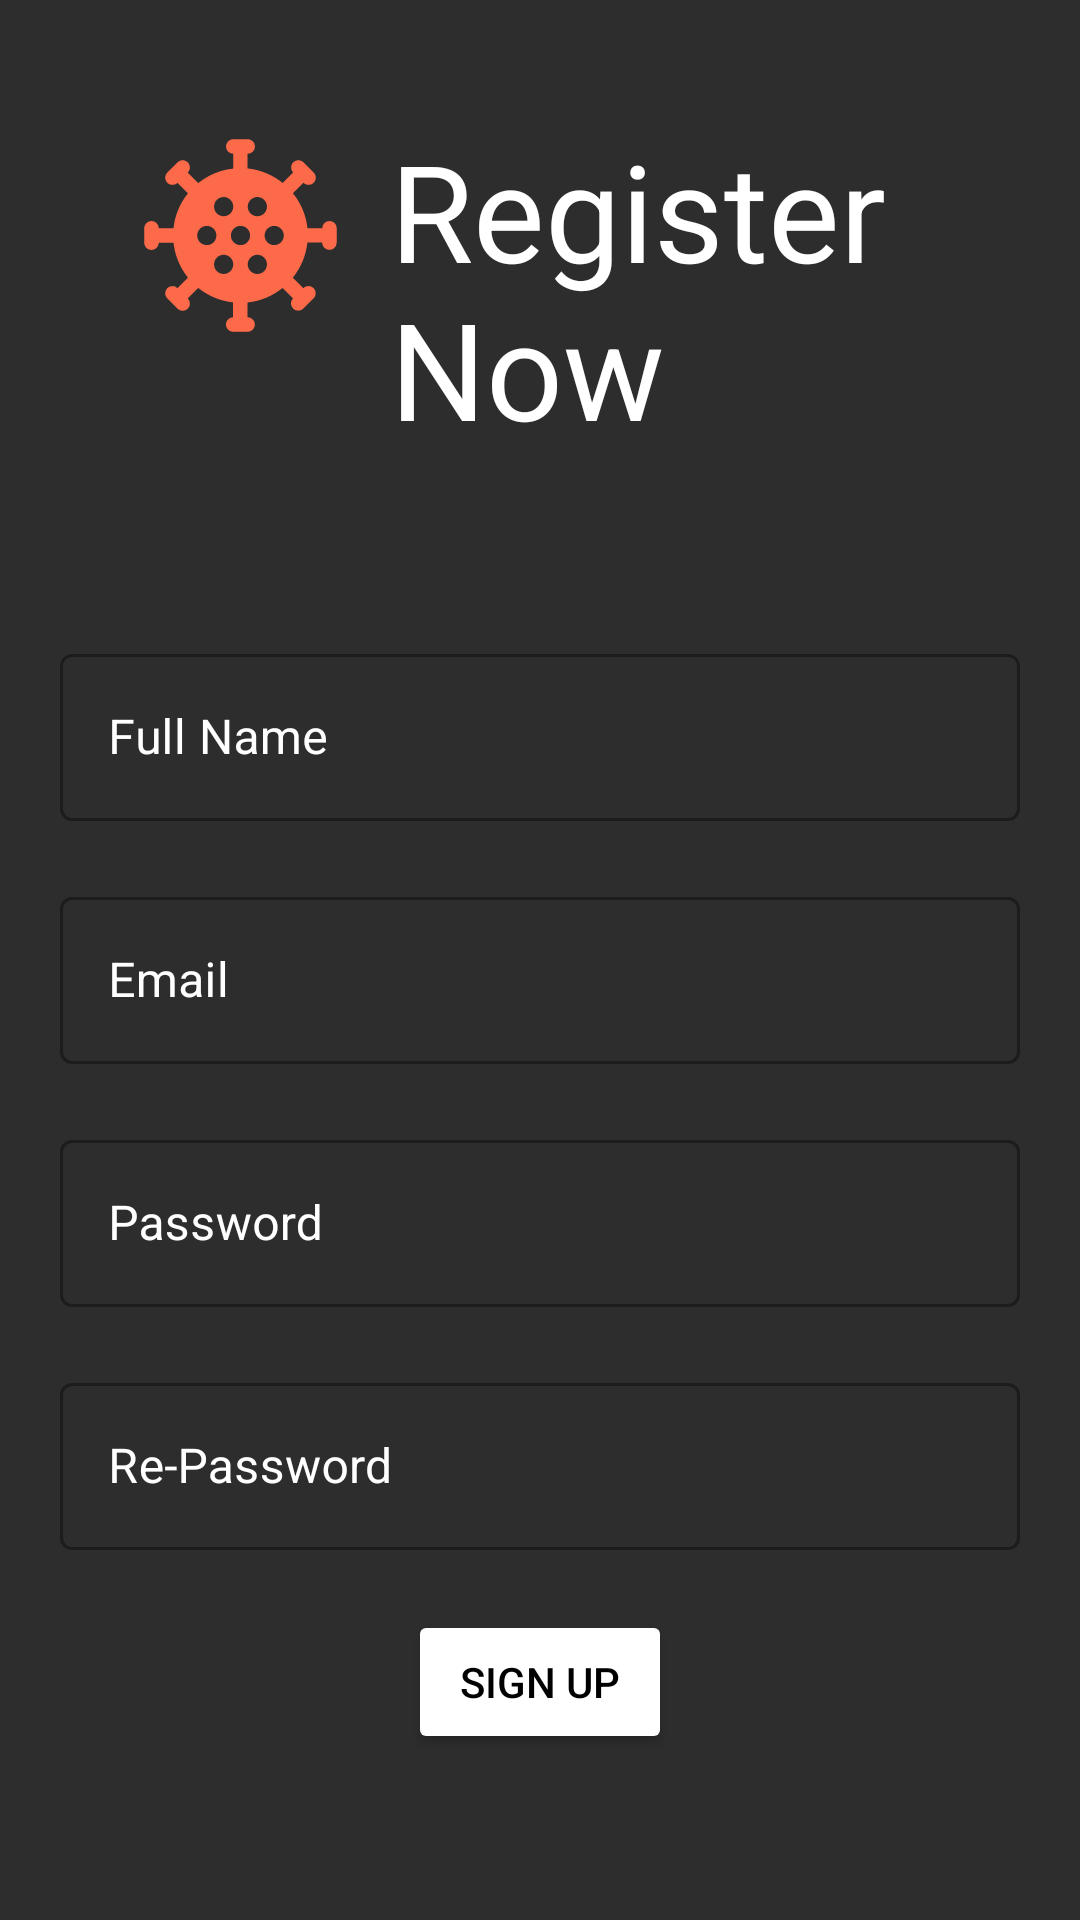

Locate icon controls on the screen. Image size 1080w x 1920h, boxes as bbox(x1, y1, x2, y2).
coronareg: bbox(144, 139, 337, 332)
